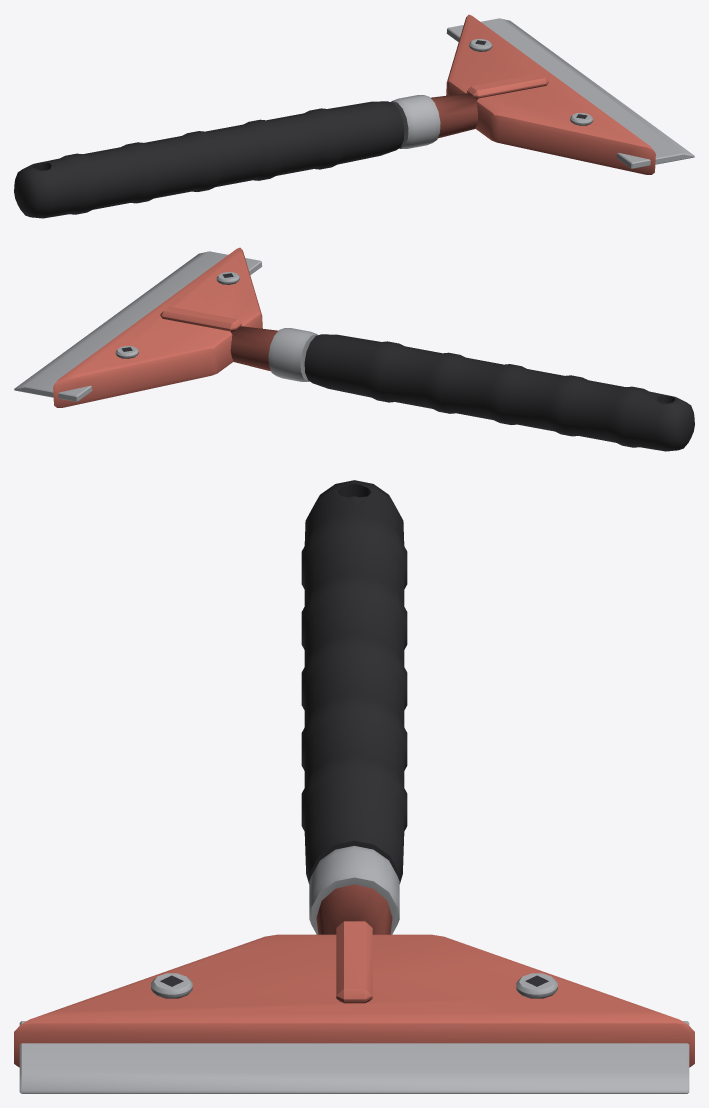
Rendered from scraper_metal.glb.
3 views of the same model, one above another, from view 1: azimuth 30°, elevation 25°; view 2: azimuth 150°, elevation 25°; view 3: azimuth 270°, elevation 25° (orthographic). The views are drawn at different scales.
Parts seen in each view (by area): view 1: PART; view 2: PART; view 3: PART.
Boxes of the visible parts, x1,y1,x2,y2 form: PART: [14, 14, 694, 218]; PART: [14, 247, 694, 451]; PART: [14, 480, 694, 1093].
Bounding box in the file's own units: 0.3993 × 0.0466 × 0.2238.
